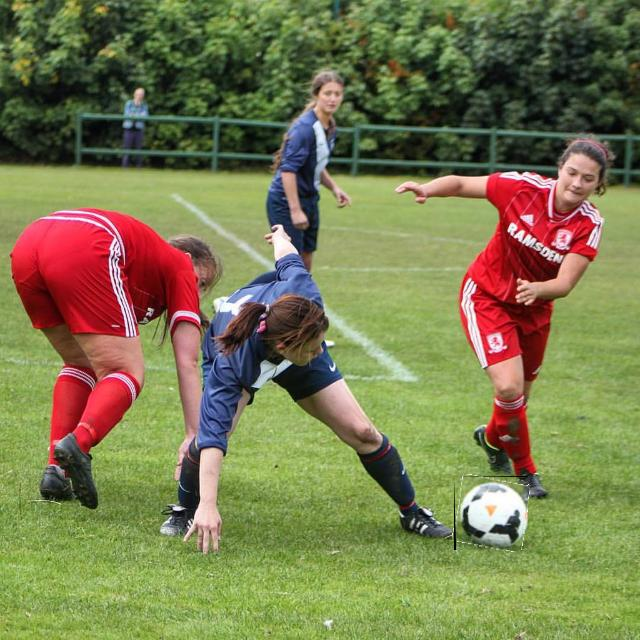Football: (454, 476, 528, 550)
